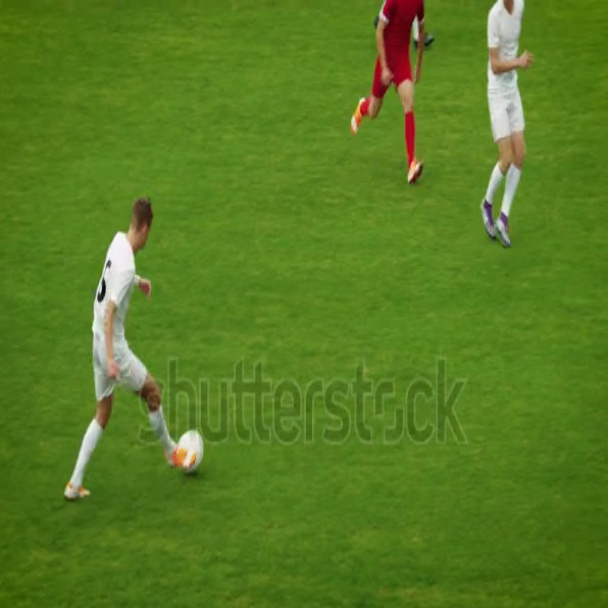ball: (173, 428, 203, 476)
